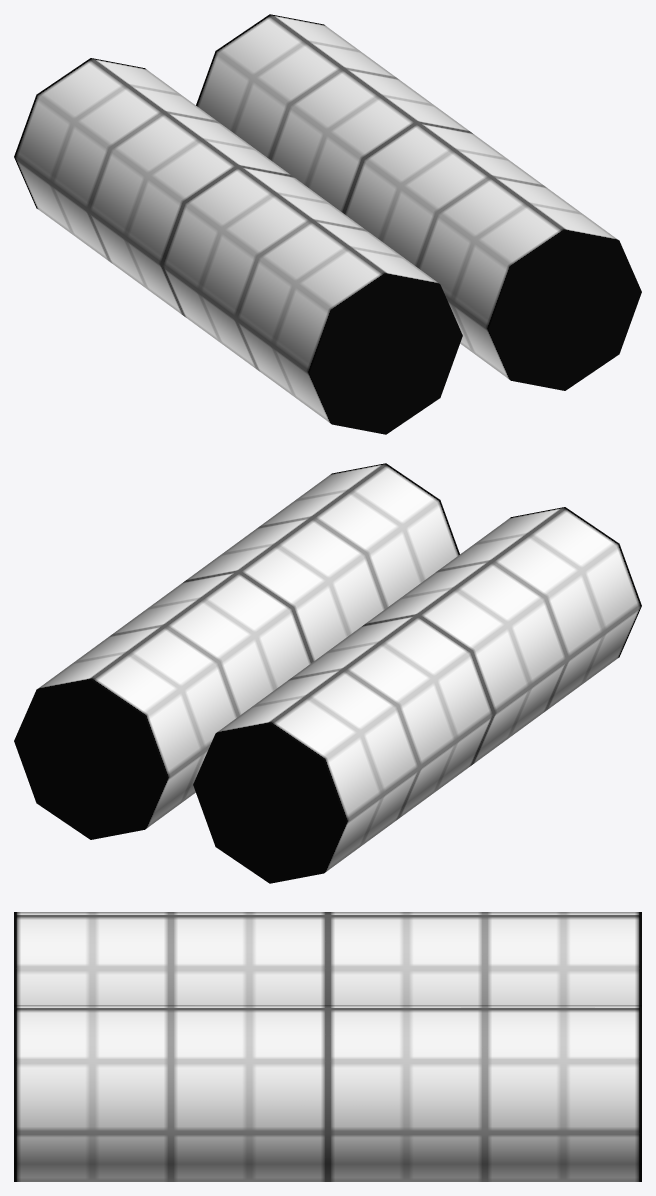
The model's file is pipe-1.fbx.
3 renders of one model, top to bottom at view 1: azimuth 30°, elevation 25°; view 2: azimuth 150°, elevation 25°; view 3: azimuth 270°, elevation 25°, orthographic. The views are drawn at different scales.
Visible parts, largest first — view 1: Object, Zplus; view 2: Object, Zminus; view 3: Object.
Boxes of the visible parts, x1,y1,x2,y2 form: Object: [14, 14, 618, 423]; Zplus: [309, 230, 641, 434]; Object: [37, 463, 641, 872]; Zminus: [14, 679, 346, 883]; Object: [14, 912, 641, 1181].
Size of the model in its own units: 65 by 30 by 100.
